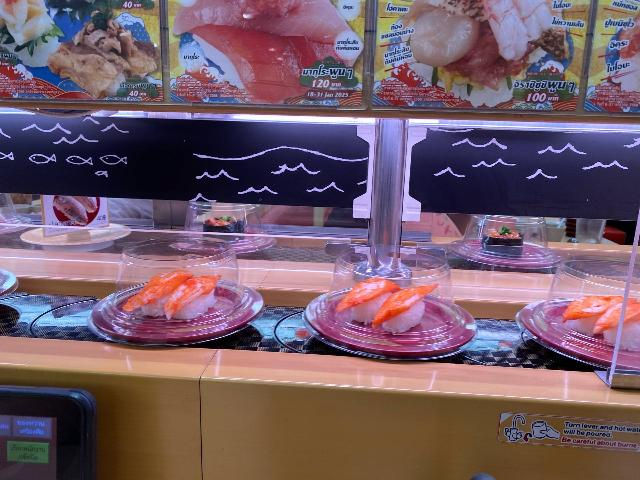janred: (85, 267, 274, 358), (291, 292, 471, 373), (172, 219, 310, 281), (540, 284, 640, 365), (457, 241, 555, 304), (0, 202, 27, 232)
